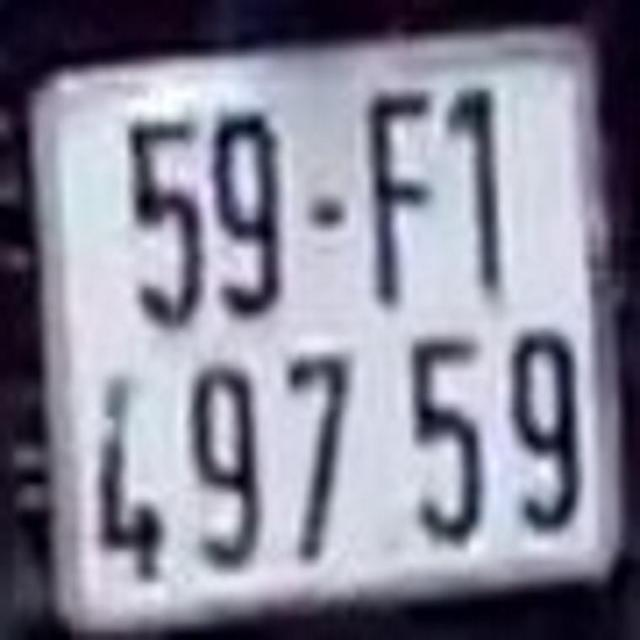1: (456, 96, 498, 298)
4: (87, 375, 170, 586)
5: (126, 122, 204, 325), (412, 333, 482, 532)
7: (288, 354, 347, 567)
9: (188, 367, 264, 572), (209, 114, 281, 316), (513, 332, 578, 526)
F: (367, 95, 433, 300)
